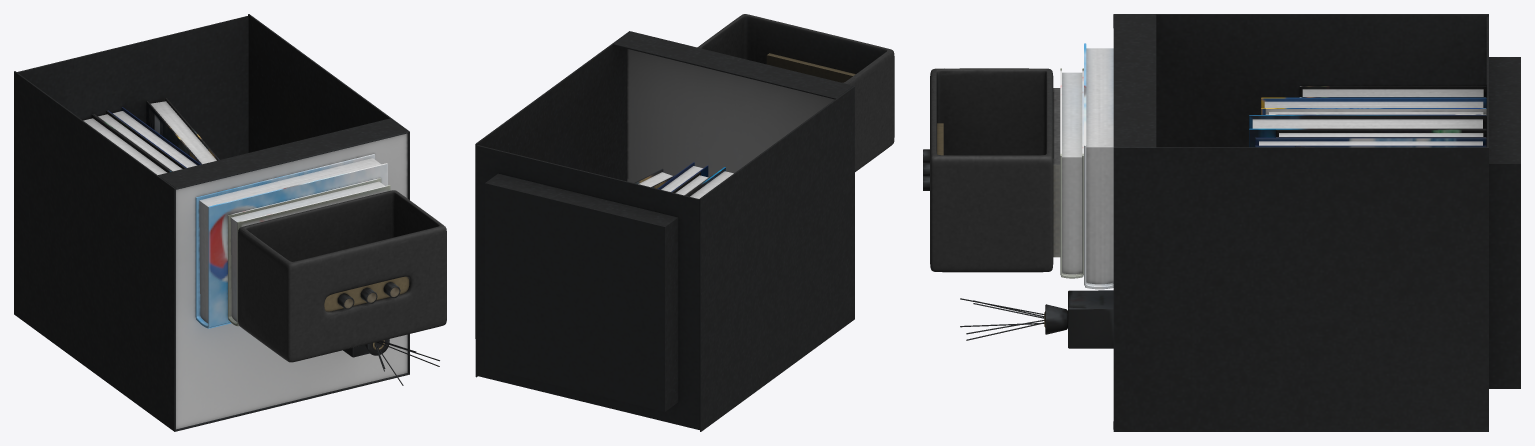
The model's file is raw_model.glb.
The picture shows the model from 3 angles, left to right: view 1: azimuth 30°, elevation 25°; view 2: azimuth 150°, elevation 25°; view 3: azimuth 270°, elevation 25°; orthographic projection. The views are drawn at different scales.
Parts seen in each view (by area): view 1: solid_003, solid_005, solid_009, solid_010, solid_019, solid_018, solid_017, solid_002, solid_011, solid_012, solid_001; view 2: solid_003, solid_009, solid_005, solid_010, solid_002; view 3: solid_003, solid_005, solid_010, solid_001, solid_013, solid_011, solid_015, solid_014, solid_012, solid_016, solid_018, solid_019 (+2 smaller).
Part boxes in pixels (box(x1,y1,x2,y2)): solid_003: box(14, 14, 439, 431); solid_005: box(238, 190, 446, 362); solid_009: box(176, 133, 407, 429); solid_010: box(83, 101, 384, 323); solid_019: box(195, 154, 387, 328); solid_018: box(228, 178, 390, 326); solid_017: box(146, 98, 219, 164); solid_002: box(324, 276, 409, 349); solid_011: box(107, 107, 200, 168); solid_012: box(94, 110, 185, 171); solid_001: box(343, 339, 389, 357); solid_003: box(475, 31, 854, 431); solid_009: box(627, 49, 834, 182); solid_005: box(697, 14, 894, 171); solid_010: box(638, 166, 733, 198); solid_002: box(766, 53, 855, 82); solid_003: box(923, 14, 1520, 431); solid_005: box(930, 68, 1053, 272); solid_010: box(1062, 48, 1483, 284); solid_001: box(1045, 290, 1113, 348); solid_013: box(1249, 115, 1486, 147); solid_011: box(1255, 137, 1486, 147); solid_015: box(1261, 97, 1486, 114); solid_014: box(1265, 108, 1486, 114); solid_012: box(1276, 129, 1486, 137); solid_016: box(1299, 86, 1486, 97); solid_018: box(1060, 68, 1083, 278); solid_019: box(1084, 43, 1113, 289).
Bounding box in the file's own units: 0.4961 × 0.4901 × 0.9348.
Materials: 1 (1 with a texture image).
